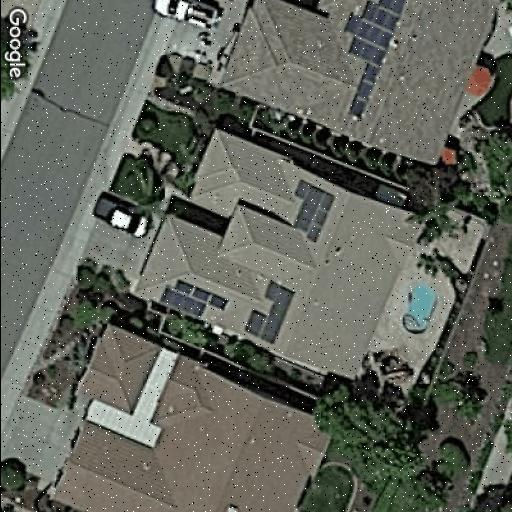solar-panel: (338, 0, 412, 126), (244, 280, 296, 346), (290, 176, 338, 244), (158, 277, 230, 319)
